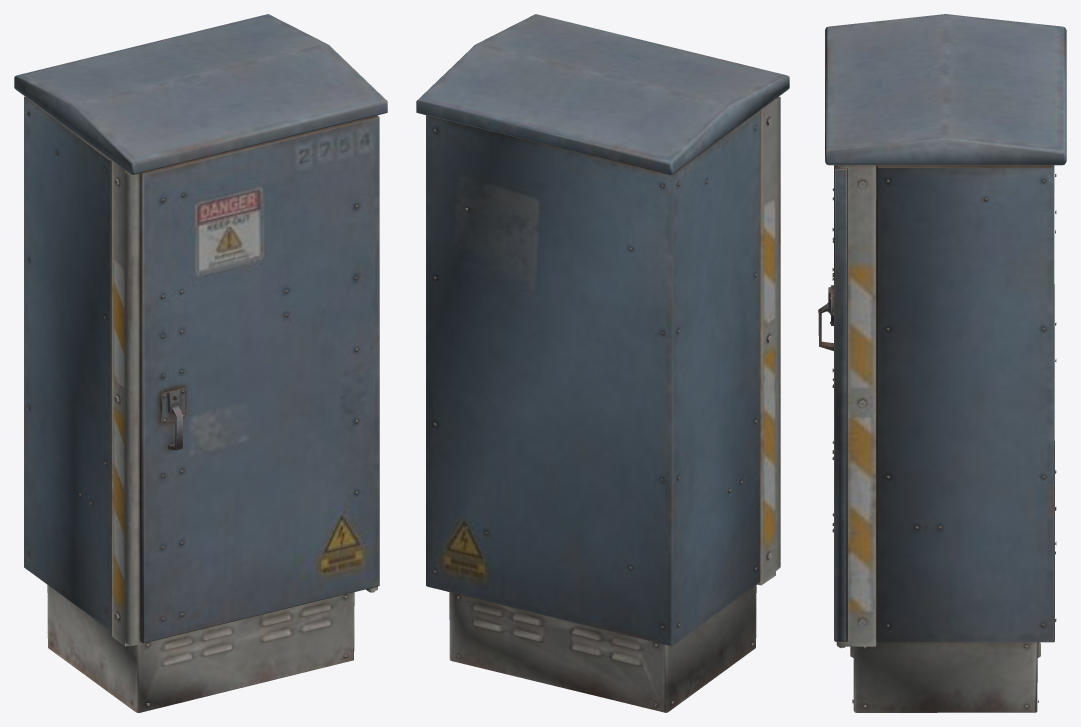
File: utility_box.glb
3 renders of one model, left to right at view 1: azimuth 30°, elevation 25°; view 2: azimuth 150°, elevation 25°; view 3: azimuth 270°, elevation 25°, orthographic.
Parts seen in each view (by area): view 1: utility_box_01_box; view 2: utility_box_01_box; view 3: utility_box_01_box.
Boxes of the visible parts, <box> form: utility_box_01_box: <box>14,14,387,712</box>; utility_box_01_box: <box>416,14,789,712</box>; utility_box_01_box: <box>818,14,1066,712</box>.
Size of the model in its own units: 0.52 by 1.12 by 0.4312.
Materials: 1 (1 with a texture image).
